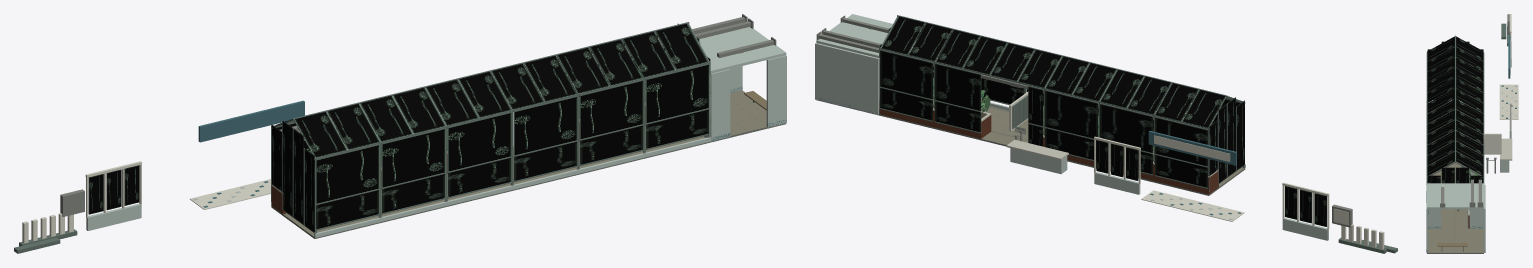
Rendered from glass-court.glb.
3 renders of one model, left to right at view 1: azimuth 30°, elevation 25°; view 2: azimuth 150°, elevation 25°; view 3: azimuth 270°, elevation 25°, orthographic. The views are drawn at different scales.
Parts seen in each view (by area): view 1: glass_court_glass, glass_court_frame, natatorium_entrance_fixtures, glass_court_vestibule; view 2: glass_court_glass, natatorium_entrance_fixtures, glass_court_frame, glass_court_vestibule, glass_court_beds; view 3: glass_court_glass, glass_court_frame, glass_court_vestibule, natatorium_entrance_fixtures, glass_court_plants.
Part boxes in pixels (x1=…): glass_court_glass: x1=272, y1=23, x2=710, y2=232; glass_court_frame: x1=271, y1=17, x2=786, y2=238; natatorium_entrance_fixtures: x1=14, y1=100, x2=336, y2=253; glass_court_vestibule: x1=667, y1=14, x2=786, y2=141; glass_court_glass: x1=880, y1=16, x2=1244, y2=187; natatorium_entrance_fixtures: x1=1006, y1=91, x2=1397, y2=253; glass_court_frame: x1=816, y1=15, x2=1245, y2=195; glass_court_vestibule: x1=815, y1=14, x2=1025, y2=134; glass_court_beds: x1=879, y1=97, x2=1218, y2=194; glass_court_glass: x1=1427, y1=36, x2=1483, y2=183; glass_court_frame: x1=1426, y1=35, x2=1484, y2=253; glass_court_vestibule: x1=1426, y1=183, x2=1485, y2=252; natatorium_entrance_fixtures: x1=1461, y1=14, x2=1518, y2=173; glass_court_plants: x1=1469, y1=78, x2=1482, y2=210.
Size of the model in its own units: 37.73 by 5.29 by 6.51.
23 materials, 6 textured.
